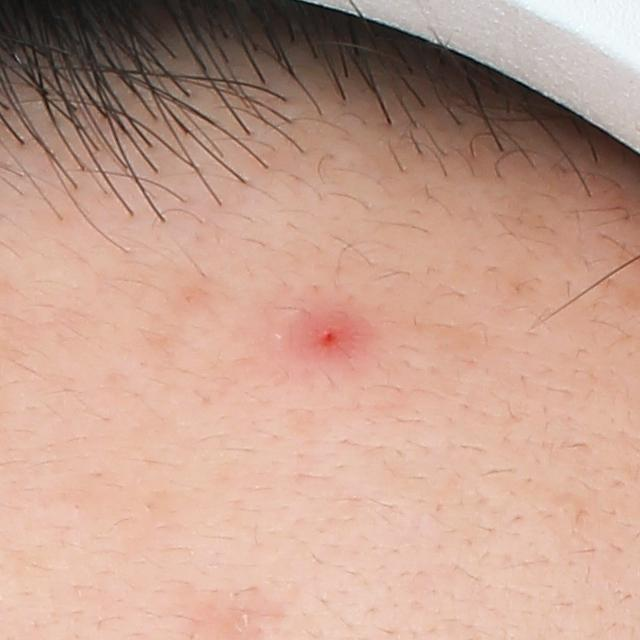papule: (300, 301, 367, 366)
